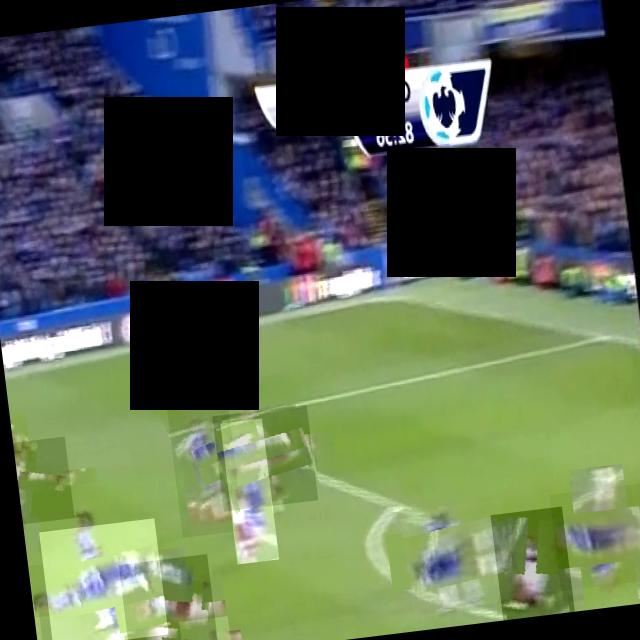referee: (32, 603, 46, 640)
soccer-player: (39, 518, 168, 640), (400, 498, 512, 612), (212, 404, 318, 511), (166, 392, 243, 537), (549, 482, 640, 590), (490, 506, 574, 620), (220, 418, 279, 564), (118, 553, 217, 640), (12, 436, 74, 524), (179, 615, 232, 640)
